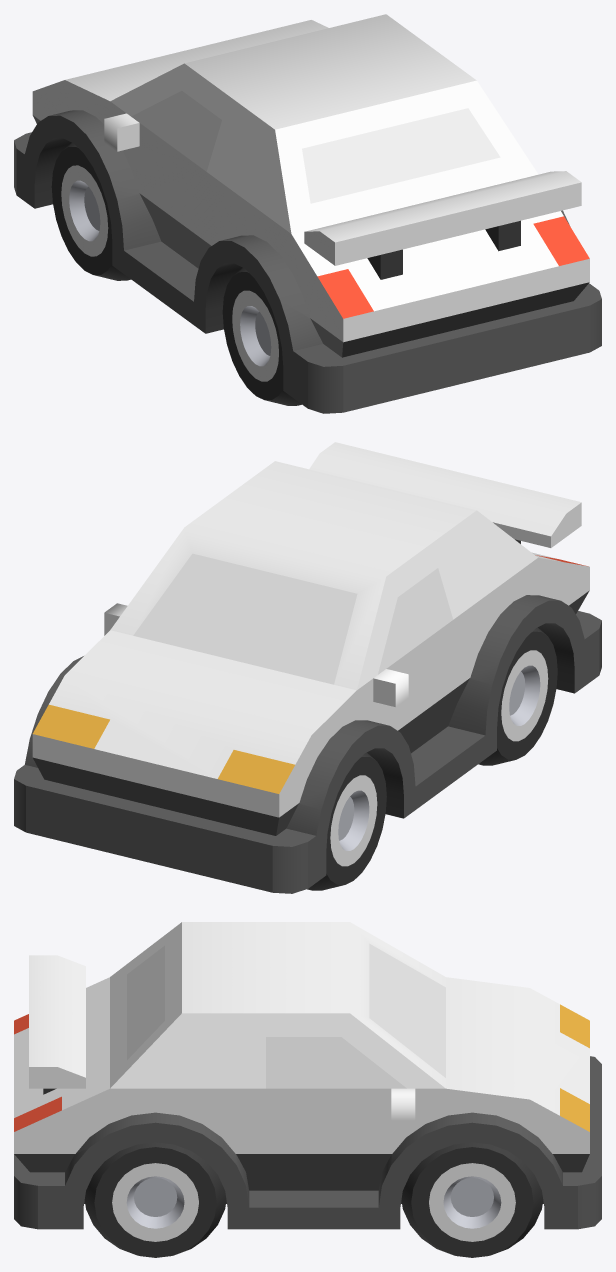
Rendered from sedanSportsWhite.glb.
3 views of the same model, one above another, from view 1: azimuth 30°, elevation 25°; view 2: azimuth 150°, elevation 25°; view 3: azimuth 270°, elevation 25° (orthographic). The views are drawn at different scales.
Parts seen in each view (by area): view 1: body, spoiler, wheel_backLeft, wheel_frontLeft; view 2: body, spoiler, wheel_frontLeft, wheel_backLeft; view 3: body, wheel_backRight, wheel_frontRight, spoiler.
Boxes of the visible parts, x1=… form: body: x1=14, y1=14, x2=601, y2=413; spoiler: x1=304, y1=171, x2=581, y2=279; wheel_backLeft: x1=222, y1=267, x2=301, y2=405; wheel_frontLeft: x1=51, y1=142, x2=130, y2=280; body: x1=14, y1=461, x2=601, y2=893; spoiler: x1=309, y1=442, x2=581, y2=547; wheel_frontLeft: x1=307, y1=752, x2=386, y2=890; wheel_backLeft: x1=478, y1=627, x2=557, y2=765; body: x1=14, y1=922, x2=601, y2=1229; wheel_backRight: x1=84, y1=1142, x2=226, y2=1257; wheel_frontRight: x1=401, y1=1142, x2=543, y2=1257; spoiler: x1=29, y1=955, x2=85, y2=1094.
Size of the model in its own units: 1.3 by 1.1 by 2.45.
